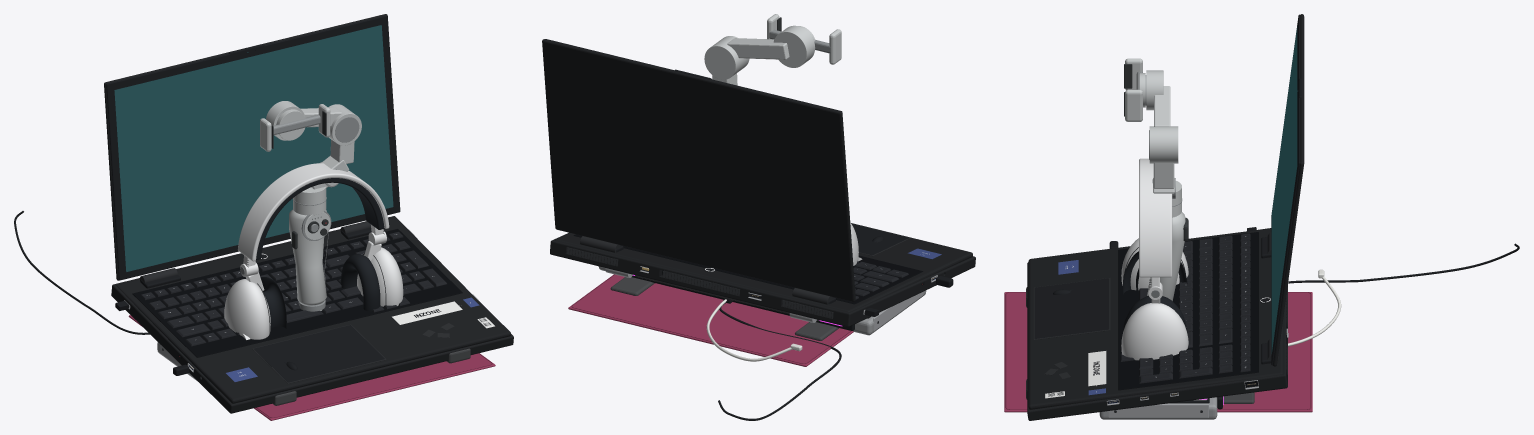
The model's file is desk-electronics.glb.
The picture shows the model from 3 angles, left to right: view 1: azimuth 30°, elevation 25°; view 2: azimuth 150°, elevation 25°; view 3: azimuth 270°, elevation 25°; orthographic projection. The views are drawn at different scales.
Parts seen in each view (by area): view 1: ScreenDisplay, LaptopRoot Legion Eclipse Black painted PC ABS, LaptopRoot Laptop matte keycaps, HeadphonesRoot Headphone off white matte ABS, LaptopRoot Rubber and recessed gaps, LaptopScreenHinge Soft black ABS, GimbalRoot DJI pale grey injection molded shell, LaptopRoot Soft black ABS, Magenta mouse pad, HeadphonesRoot Headphone black soft nylon padded cushions, GimbalPhoneClampPivot DJI pale grey injection molded shell, Lid back shell (+6 smaller); view 2: Lid back shell, Magenta mouse pad, LaptopRoot Legion Eclipse Black painted PC ABS, GimbalRoot DJI pale grey injection molded shell, LaptopRoot Dark molded chassis edge, GimbalPhoneClampPivot DJI pale grey injection molded shell, LaptopRoot Rubber and recessed gaps, LaptopStandRoot Laptop stand bead blasted dark alloy, LaptopRoot Laptop matte keycaps, LaptopRoot Soft black ABS, KeyboardConnectedCable, MouseRoot White mouse satin shell (+4 smaller); view 3: LaptopRoot Legion Eclipse Black painted PC ABS, LaptopRoot Laptop matte keycaps, HeadphonesRoot Headphone off white matte ABS, Magenta mouse pad, LaptopRoot Rubber and recessed gaps, LaptopRoot Soft black ABS, ScreenDisplay, GimbalRoot DJI pale grey injection molded shell, Lid back shell, GimbalPhoneClampPivot DJI pale grey injection molded shell, LaptopScreenHinge Soft black ABS, KeyboardRoot Small exposed metal (+6 smaller).
Part boxes in pixels (left/top/right/bottom): ScreenDisplay: left=114, top=25, right=393, bottom=271; LaptopRoot Legion Eclipse Black painted PC ABS: left=111, top=216, right=513, bottom=413; LaptopRoot Laptop matte keycaps: left=140, top=231, right=446, bottom=346; HeadphonesRoot Headphone off white matte ABS: left=224, top=163, right=403, bottom=339; LaptopRoot Rubber and recessed gaps: left=132, top=229, right=462, bottom=358; LaptopScreenHinge Soft black ABS: left=106, top=15, right=400, bottom=280; GimbalRoot DJI pale grey injection molded shell: left=289, top=104, right=361, bottom=310; LaptopRoot Soft black ABS: left=140, top=227, right=490, bottom=382; Magenta mouse pad: left=128, top=315, right=495, bottom=420; HeadphonesRoot Headphone black soft nylon padded cushions: left=256, top=178, right=384, bottom=328; GimbalPhoneClampPivot DJI pale grey injection molded shell: left=260, top=101, right=330, bottom=151; Lid back shell: left=104, top=14, right=387, bottom=280; Lid back shell: left=542, top=39, right=855, bottom=301; Magenta mouse pad: left=568, top=274, right=853, bottom=366; LaptopRoot Legion Eclipse Black painted PC ABS: left=550, top=223, right=975, bottom=326; GimbalRoot DJI pale grey injection molded shell: left=704, top=36, right=789, bottom=85; LaptopRoot Dark molded chassis edge: left=566, top=223, right=910, bottom=318; GimbalPhoneClampPivot DJI pale grey injection molded shell: left=767, top=14, right=841, bottom=67; LaptopRoot Rubber and recessed gaps: left=573, top=234, right=924, bottom=304; LaptopStandRoot Laptop stand bead blasted dark alloy: left=610, top=275, right=838, bottom=340; LaptopRoot Laptop matte keycaps: left=853, top=261, right=908, bottom=299; LaptopRoot Soft black ABS: left=616, top=224, right=924, bottom=304; KeyboardConnectedCable: left=718, top=300, right=841, bottom=420; MouseRoot White mouse satin shell: left=706, top=299, right=802, bottom=361; LaptopRoot Legion Eclipse Black painted PC ABS: left=1027, top=228, right=1287, bottom=420; LaptopRoot Laptop matte keycaps: left=1120, top=233, right=1250, bottom=383; HeadphonesRoot Headphone off white matte ABS: left=1121, top=158, right=1188, bottom=360; Magenta mouse pad: left=1004, top=292, right=1312, bottom=412; LaptopRoot Rubber and recessed gaps: left=1107, top=232, right=1258, bottom=402; LaptopRoot Soft black ABS: left=1034, top=237, right=1271, bottom=399; ScreenDisplay: left=1271, top=26, right=1297, bottom=353; GimbalRoot DJI pale grey injection molded shell: left=1147, top=86, right=1185, bottom=300; Lid back shell: left=1273, top=14, right=1304, bottom=366; GimbalPhoneClampPivot DJI pale grey injection molded shell: left=1125, top=58, right=1163, bottom=121; LaptopScreenHinge Soft black ABS: left=1271, top=14, right=1301, bottom=365; KeyboardRoot Small exposed metal: left=1108, top=404, right=1208, bottom=417.
Bounding box in the file's own units: 0.8281 × 0.648 × 1.14.
